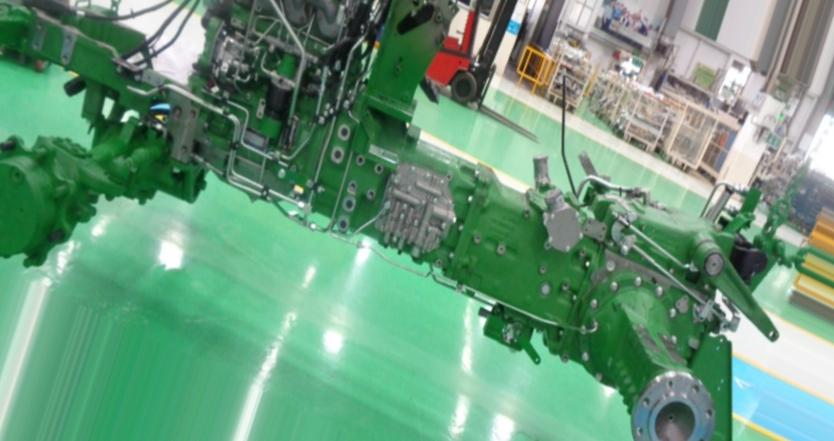engine: (0, 0, 795, 441)
